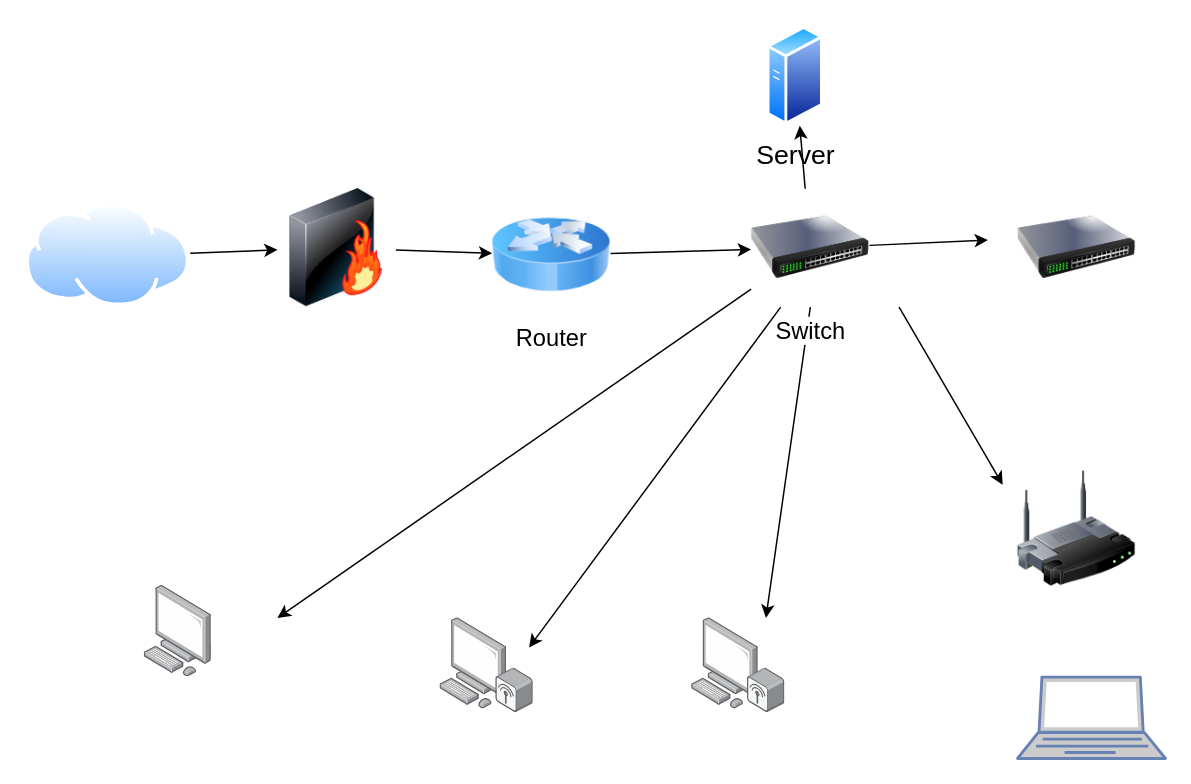
The diagram is 1191 pixels wide and 784 high, and some of its shapes have lost their labels. The shapes that lost their labels are listed below. From the top down, each one's centre as x and y in pixels, then its label:
At point (336, 247): "Firewall".
At point (1076, 247): "Another Switch".
